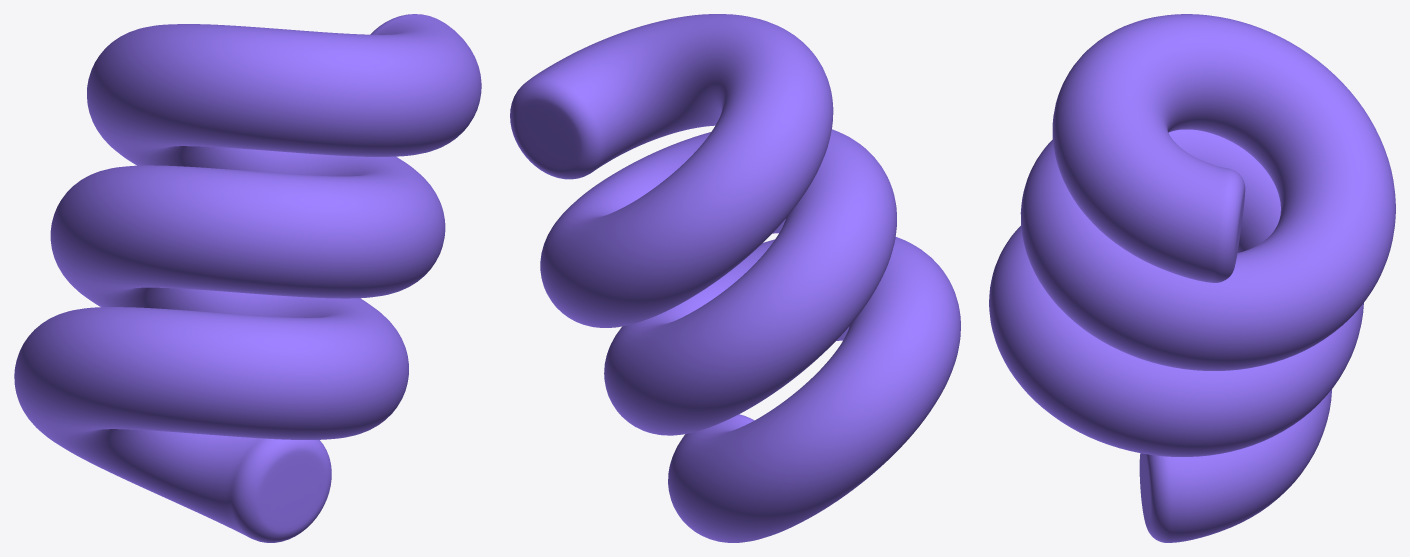
Rendered from spiral-abstract-shape-animated-3d-icon-713416610389.glb.
3 views of the same model, side by side, from view 1: azimuth 30°, elevation 25°; view 2: azimuth 150°, elevation 25°; view 3: azimuth 270°, elevation 25° (orthographic). The views are drawn at different scales.
Visible parts, largest first — view 1: Spiral; view 2: Spiral; view 3: Spiral.
Part boxes in pixels (x1,y1,x2,y2): Spiral: (14,14,481,542); Spiral: (510,14,960,542); Spiral: (989,14,1395,542).
Size of the model in its own units: 1.75 by 1.96 by 1.46.
